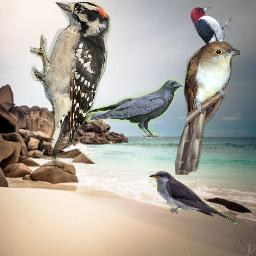Crow: (86, 79, 184, 138)
Cuckoo: (175, 40, 240, 175), (148, 171, 242, 228)
Woodpecker: (30, 2, 112, 169), (190, 6, 234, 64)
